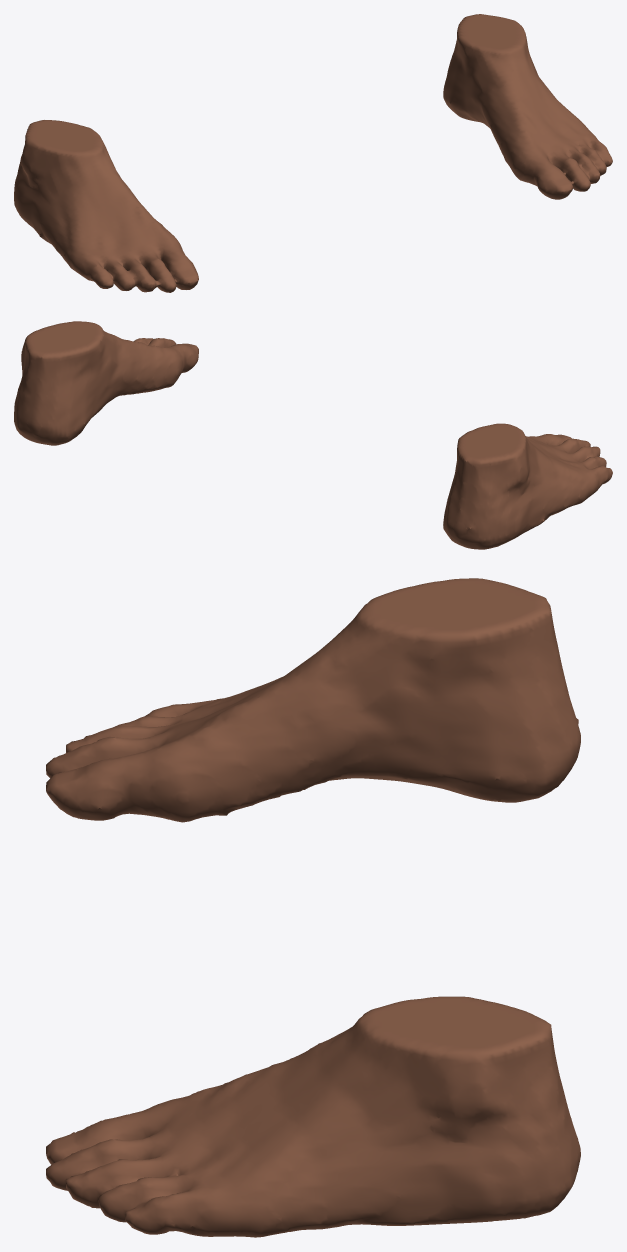
File: feet-flat.glb
3 views of the same model, one above another, from view 1: azimuth 30°, elevation 25°; view 2: azimuth 150°, elevation 25°; view 3: azimuth 270°, elevation 25° (orthographic). The views are drawn at different scales.
Visible parts, largest first — view 1: feet; view 2: feet; view 3: feet.
Part boxes in pixels (x1=…): feet: x1=14, y1=14, x2=612, y2=292; feet: x1=14, y1=321, x2=612, y2=549; feet: x1=46, y1=578, x2=580, y2=1237.
Size of the model in its own units: 0.5419 by 0.0919 by 0.2418.
